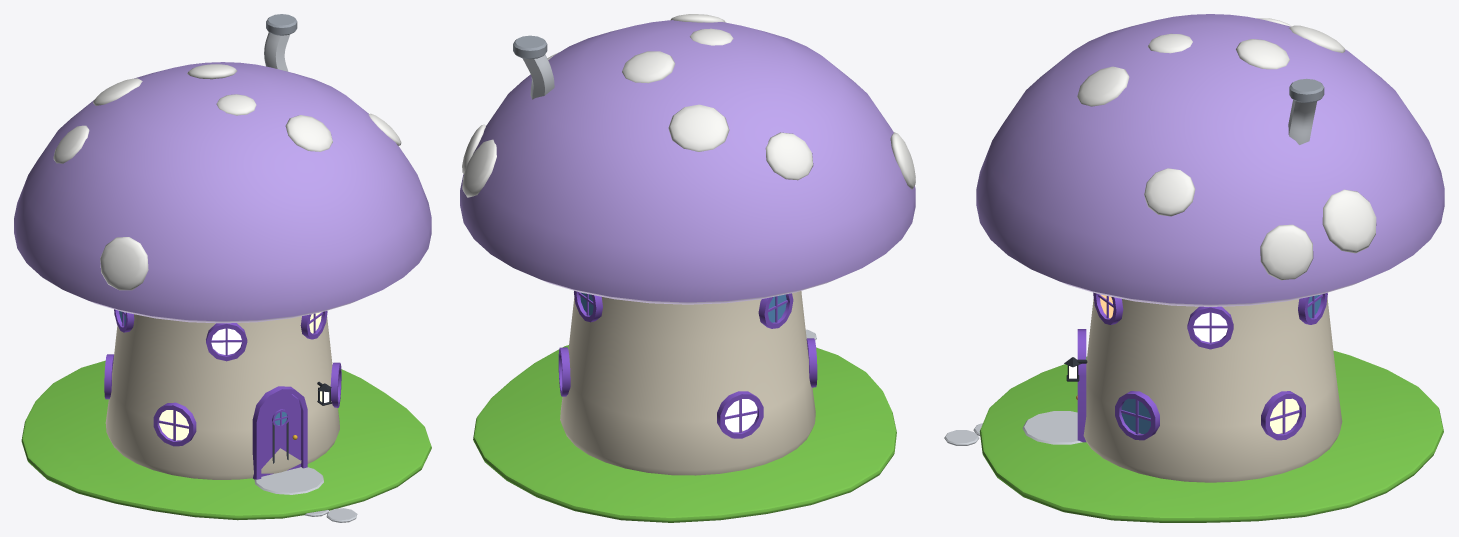
File: casa_cogumelo_lilas.glb
The picture shows the model from 3 angles, left to right: view 1: azimuth 30°, elevation 25°; view 2: azimuth 150°, elevation 25°; view 3: azimuth 270°, elevation 25°; orthographic projection. The views are drawn at different scales.
Visible parts, largest first — view 1: casa_cogumelo_lilas; view 2: casa_cogumelo_lilas; view 3: casa_cogumelo_lilas.
Part boxes in pixels (x1,y1,x2,y2): casa_cogumelo_lilas: [14, 14, 431, 522]; casa_cogumelo_lilas: [460, 14, 915, 522]; casa_cogumelo_lilas: [944, 14, 1444, 522].
Size of the model in its own units: 11.2 by 10.7 by 11.97.
6 materials, 1 textured.
